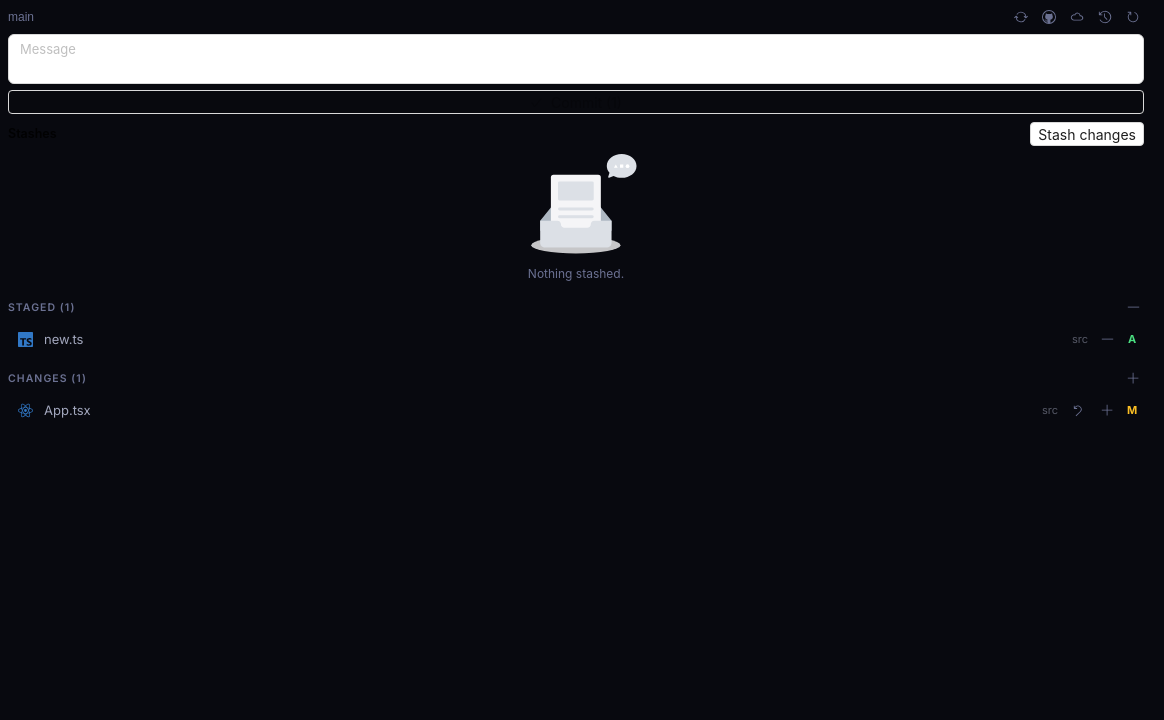
SourceControlPanel diffs › collapses again when the same row is clicked twice
Click the text "App.tsx": (67, 410) [44, 402, 91, 418]
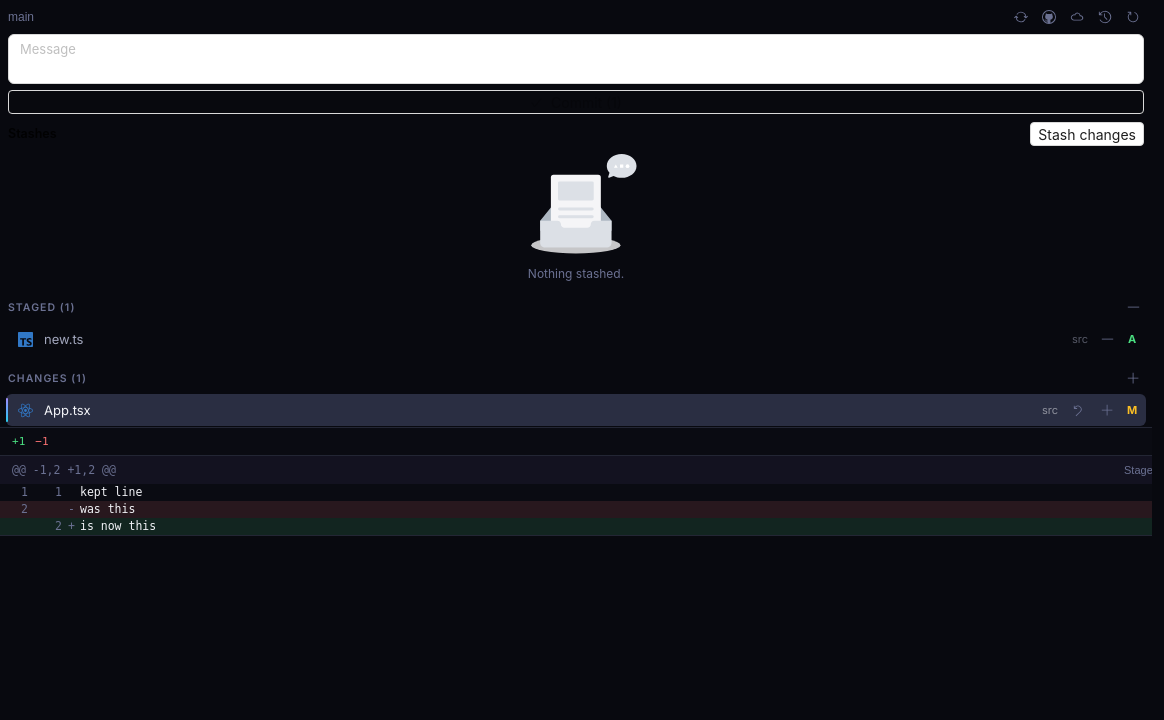
Check: the text "is now this" is shown, box [80, 519, 156, 533]
Click the text "App.tsx": (67, 410) [44, 402, 91, 418]
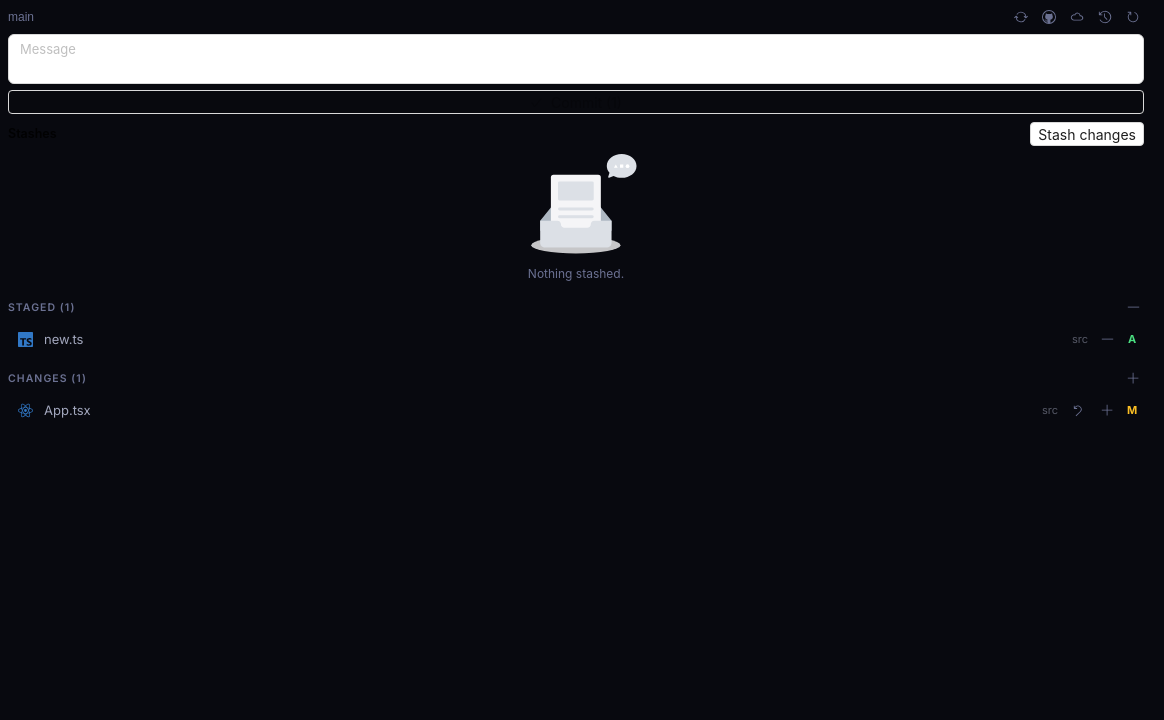
Check: the text "is now this" is gone
